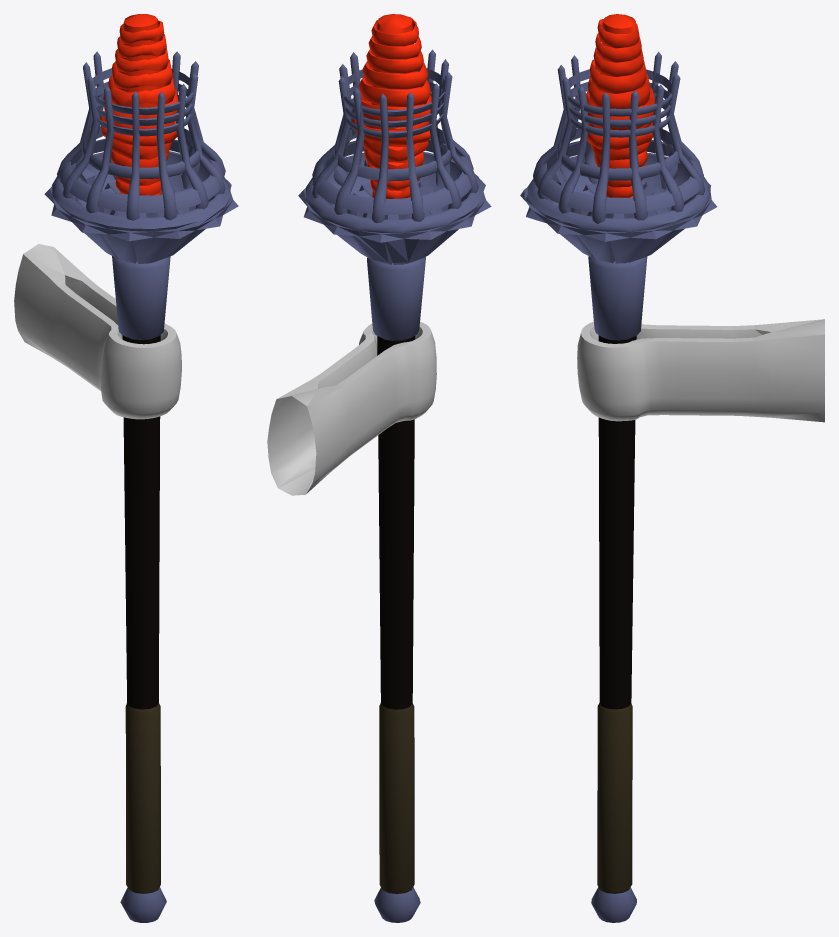
Rendered from TorchWall_12.fbx.
The picture shows the model from 3 angles, left to right: view 1: azimuth 30°, elevation 25°; view 2: azimuth 150°, elevation 25°; view 3: azimuth 270°, elevation 25°; orthographic projection.
Parts seen in each view (by area): view 1: TorchWall_12; view 2: TorchWall_12; view 3: TorchWall_12.
Part boxes in pixels (box(x1,y1,x2,y2)): TorchWall_12: box(14, 14, 238, 922); TorchWall_12: box(267, 14, 491, 922); TorchWall_12: box(520, 14, 824, 922).
Bounding box in the file's own units: 21.02 × 33.25 × 109.
